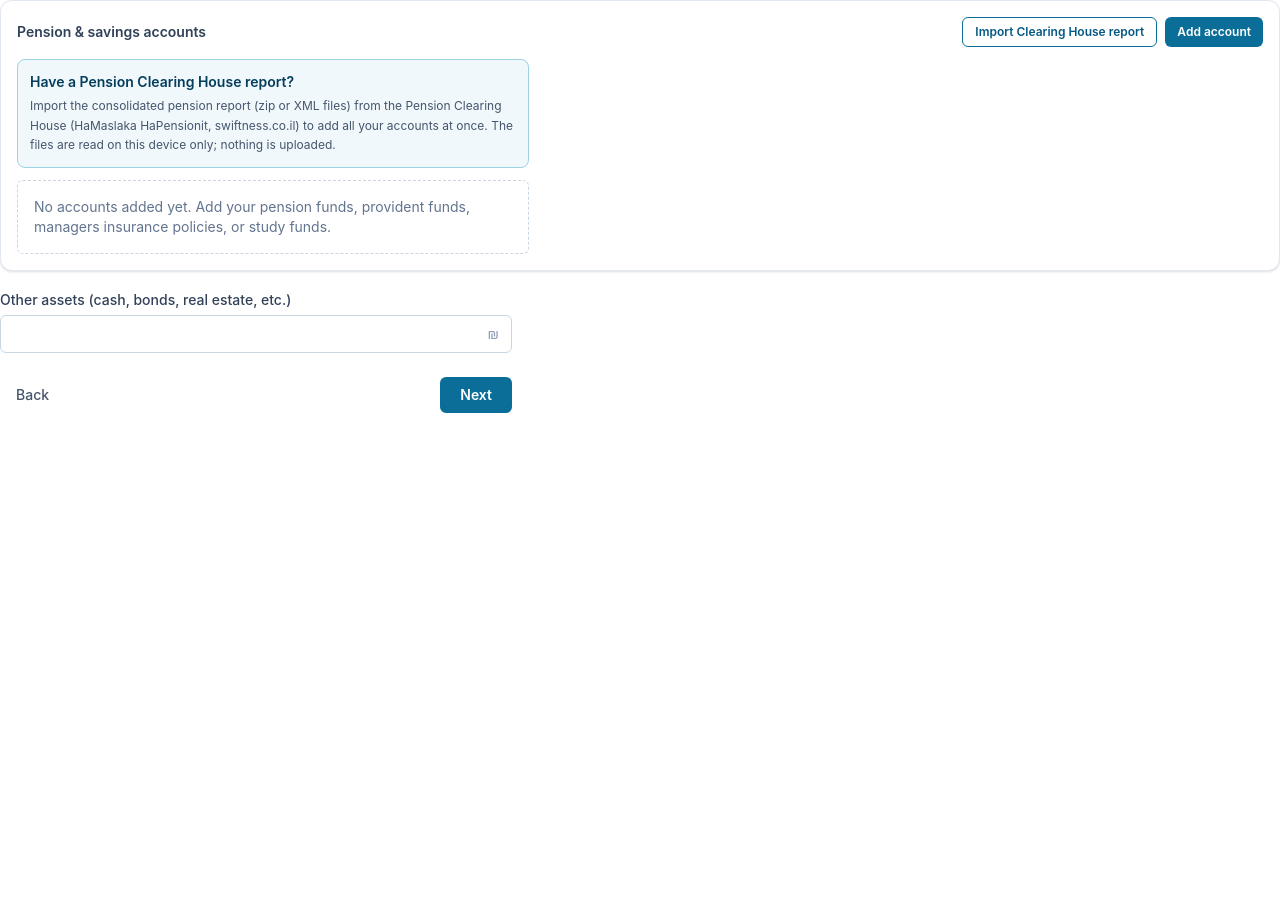
Test case: PensionSavingsStep — accounts repeater › tags what the calculation uses and what is for reference only
Click the button "Add account" at (1214, 32), box 1165,17 -> 1263,47
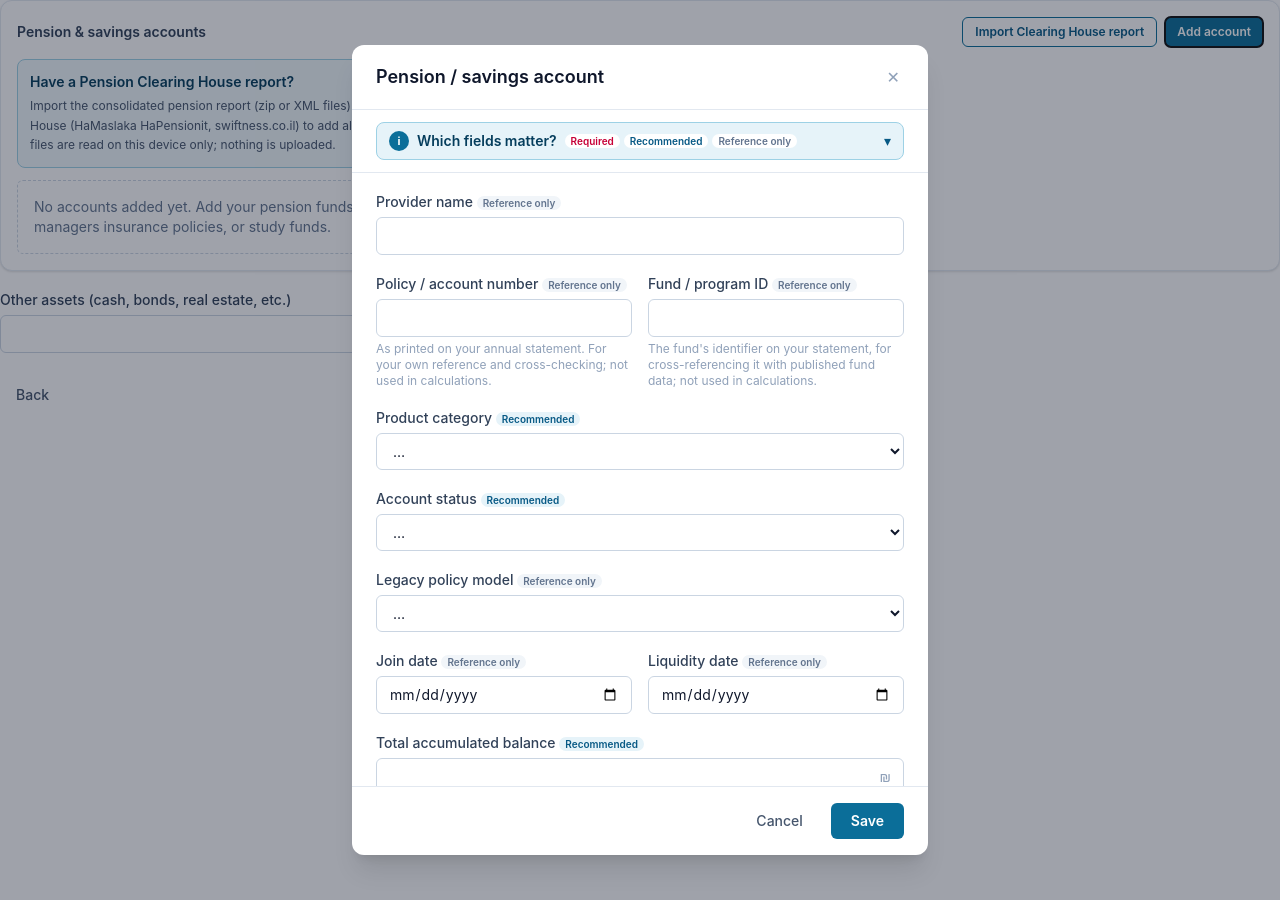
expect the label labelled "Product category Recommended" is shown: met, box 376,405 -> 904,470
expect the label labelled "Account status Recommended" is shown: met, box 376,486 -> 904,551
expect the label labelled "Total accumulated balance Recommended ₪" is shown: met, box 376,730 -> 904,786
Select "Study fund (Keren Hishtalmut)" in the dropdown labelled "Product category Recommended" at (640, 452), box 376,433 -> 904,470
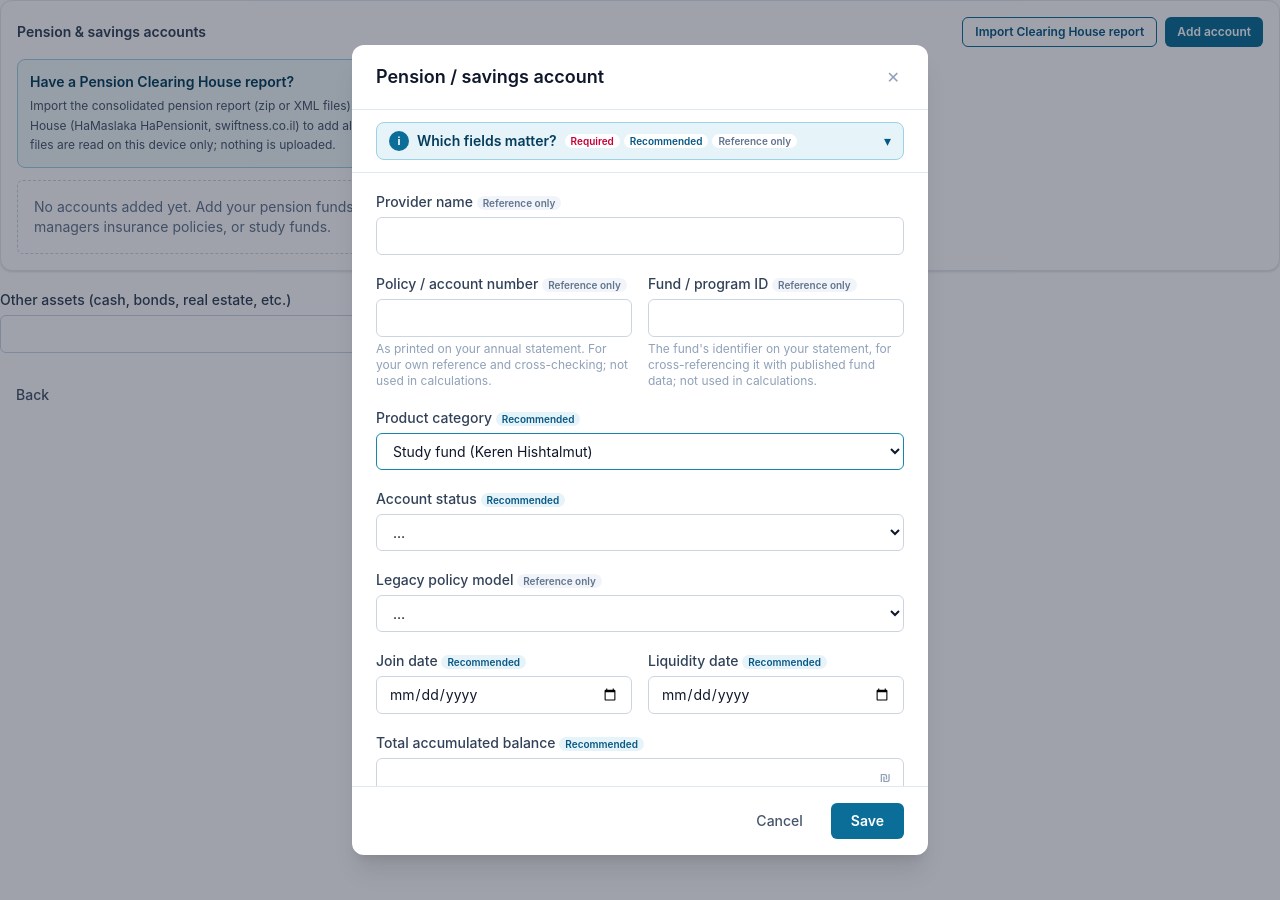
expect the label labelled "Join date Recommended" is shown: met, box 376,648 -> 632,714
expect the label labelled "Liquidity date Recommended" is shown: met, box 648,648 -> 904,714
